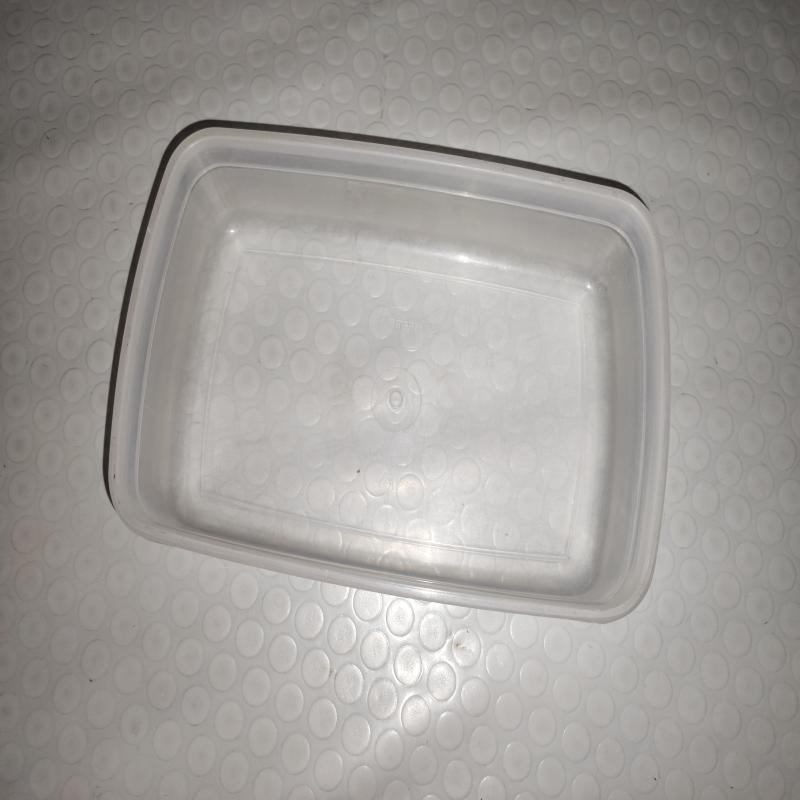plastic container: (100, 121, 674, 626)
